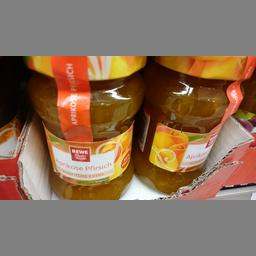jam: (24, 55, 146, 199), (134, 55, 255, 193)
